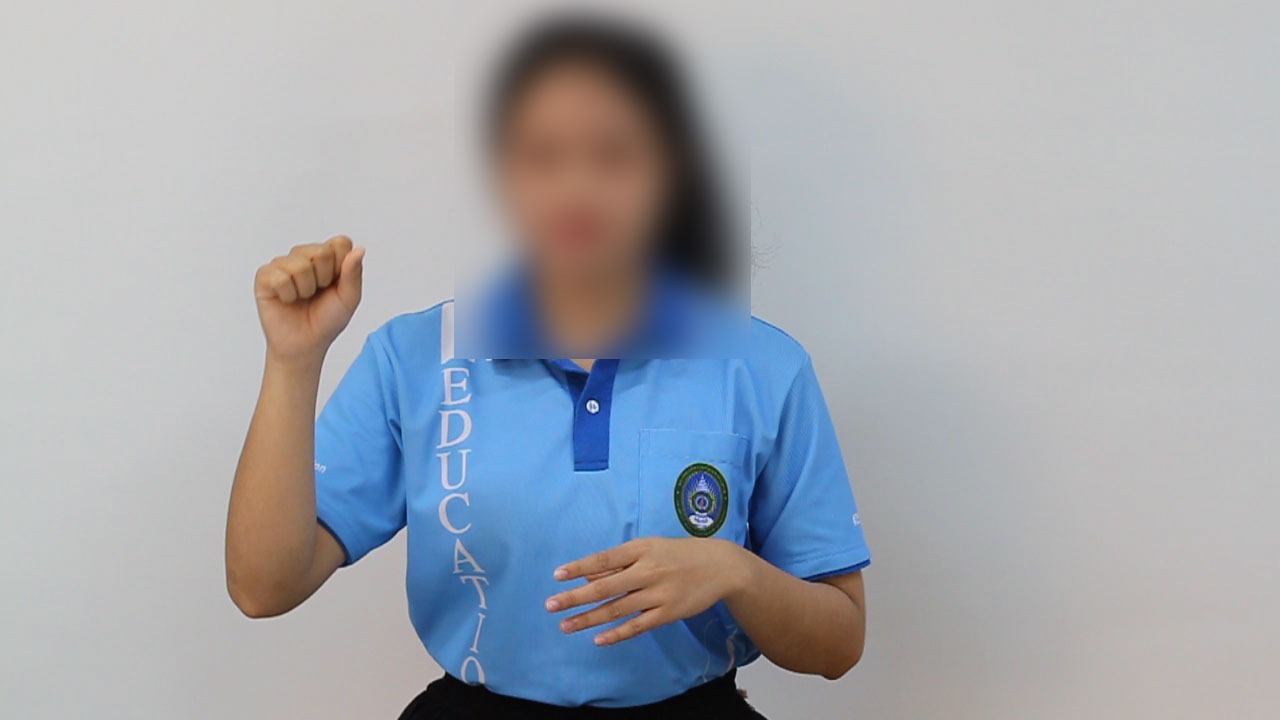sor: (250, 221, 386, 372)
